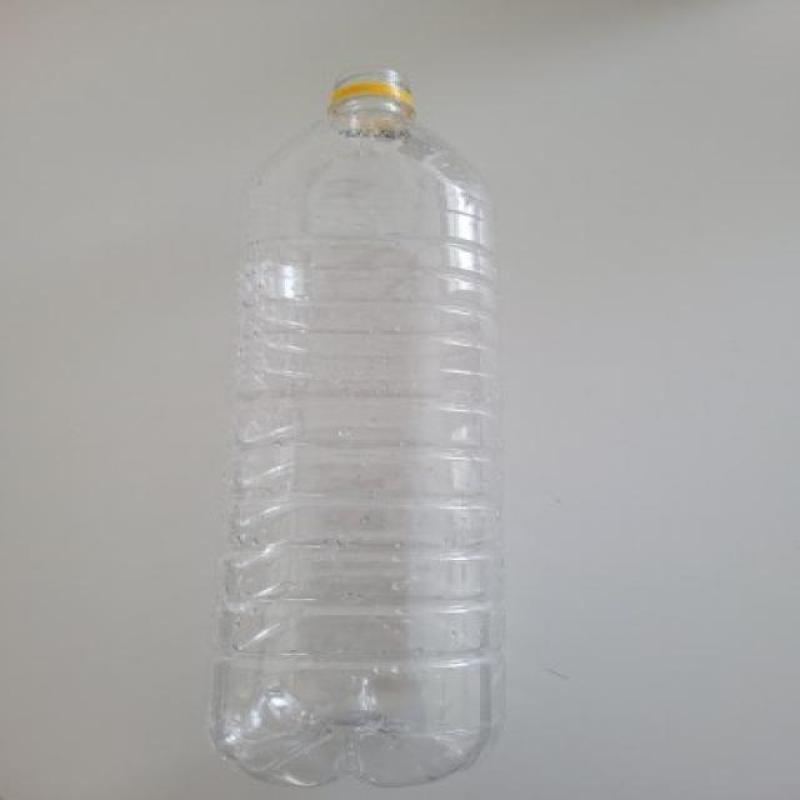botella: (211, 65, 499, 787)
